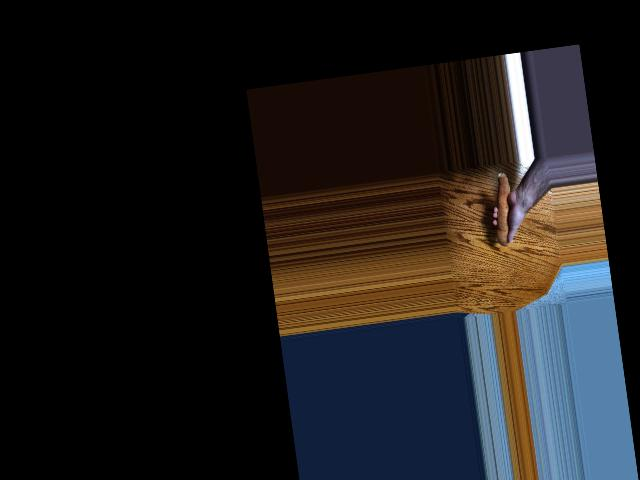sweet_potato: (485, 172, 519, 246)
